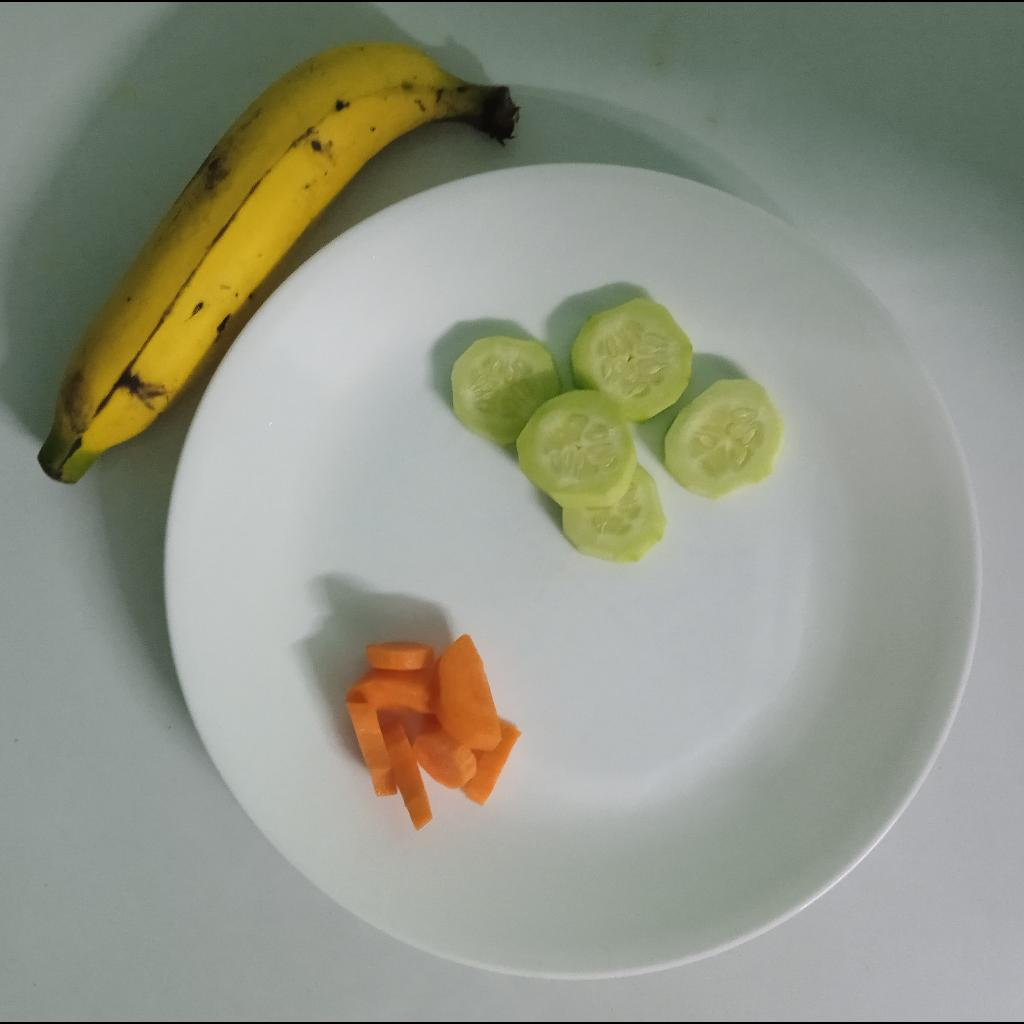banana: (33, 32, 522, 482)
carrot: (344, 634, 524, 837)
cucumber: (450, 291, 695, 566), (451, 292, 695, 567), (662, 381, 787, 504)
